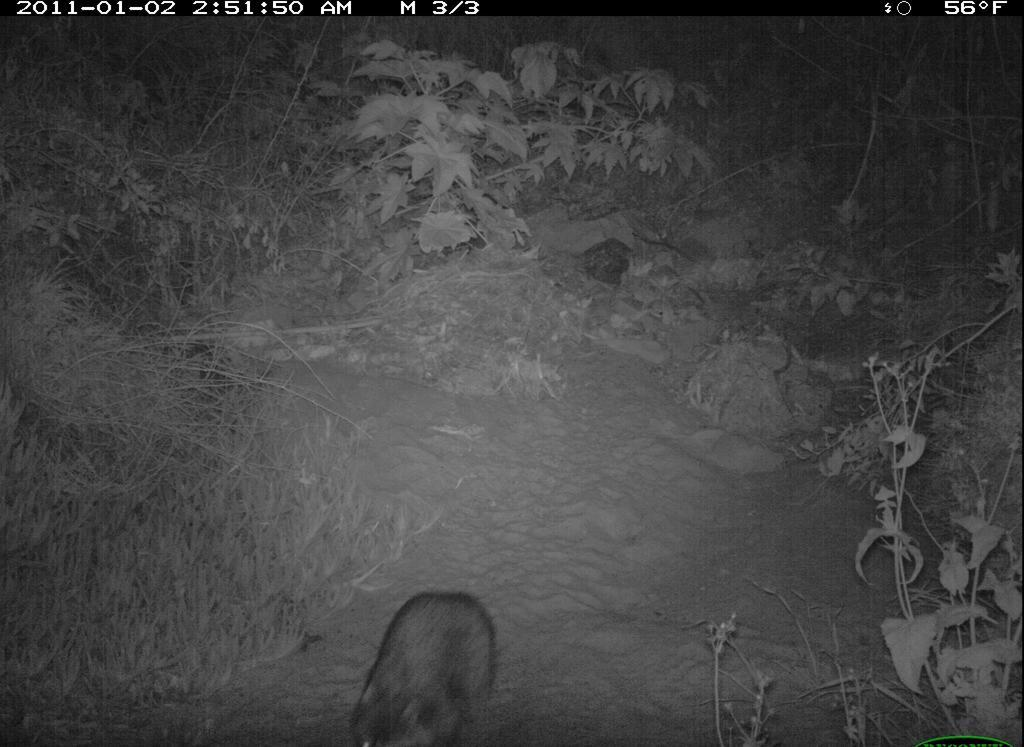raccoon: (338, 589, 513, 745)
